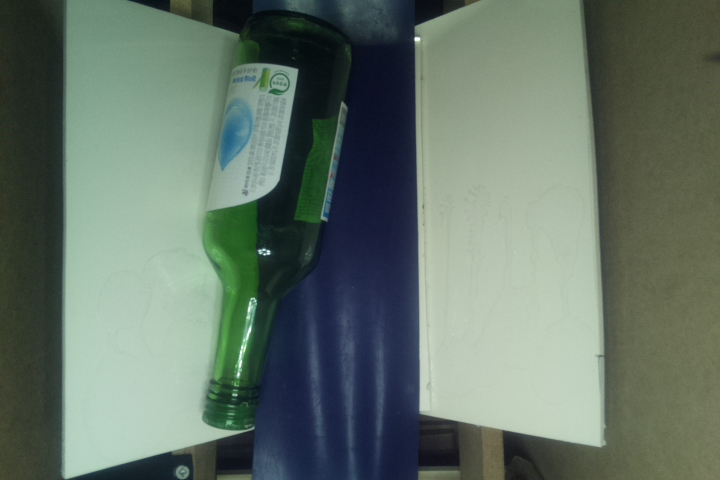soju: (196, 9, 354, 431)
